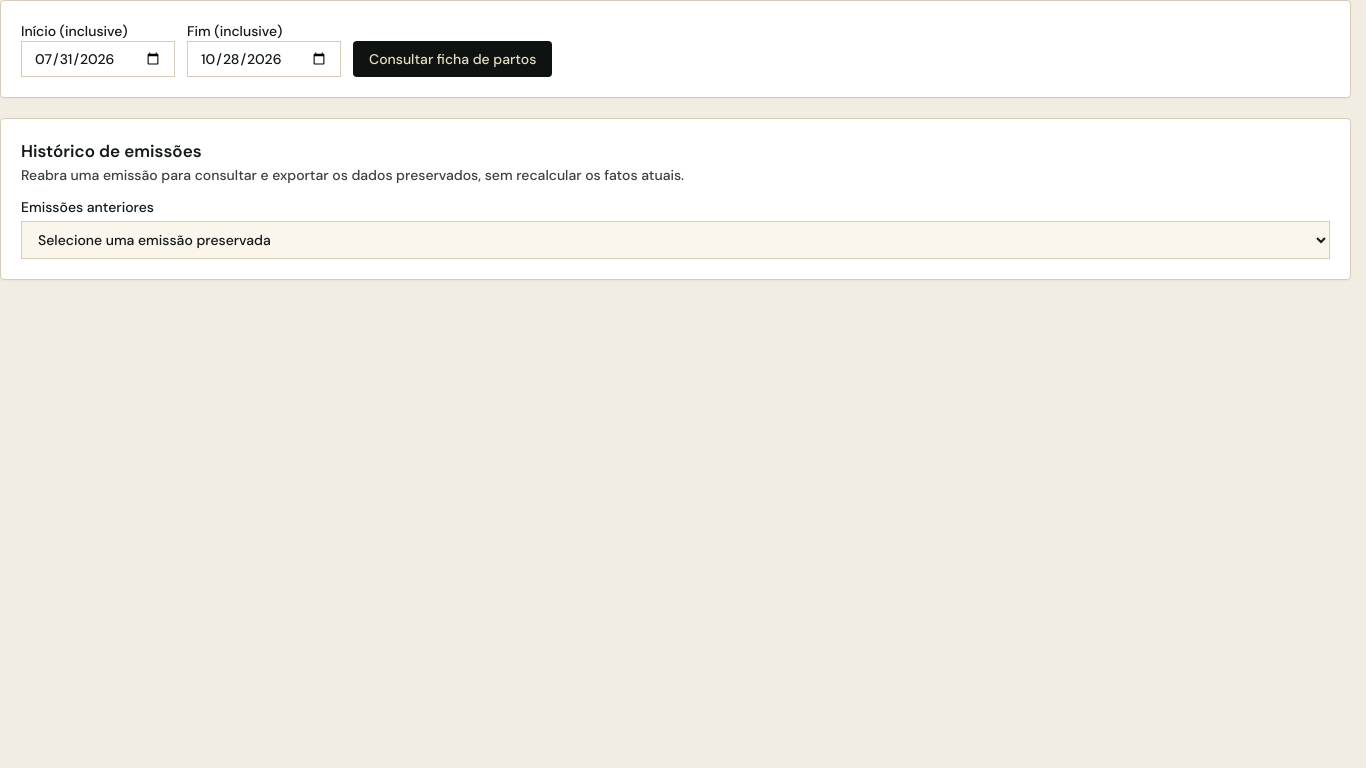
Test: diferencia datas em edição do período preservado sem recalcular a emissão
The width and height of the screenshot is (1366, 768).
expect the button "Consultar ficha de partos" is shown: met, box [353, 41, 552, 77]
Step 1. Select "14/10/2026, 12:00:00" in the dropdown labelled "Emissões anteriores" → (676,240), box [21, 220, 1330, 258]
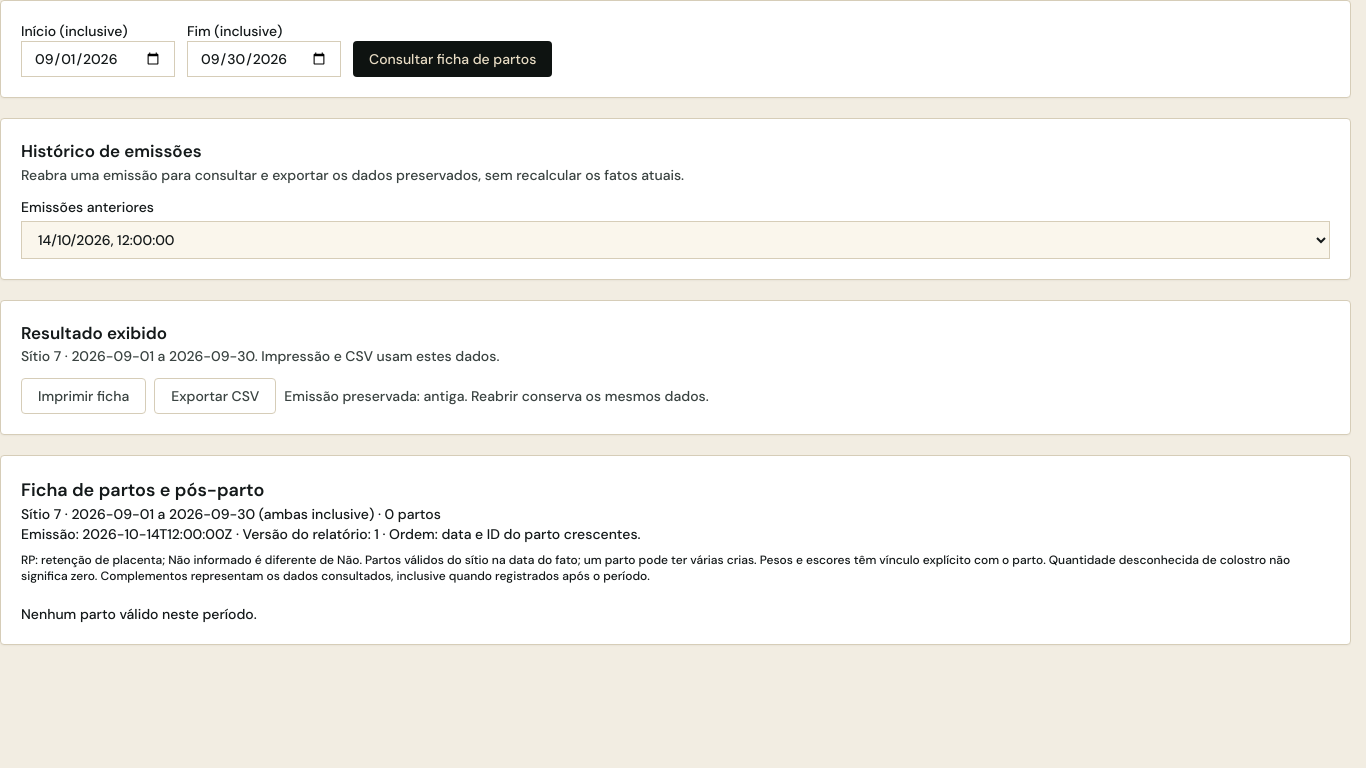
expect the text "As datas editadas ainda" is not shown: met
expect the text "Emissão preservada: antiga" is shown: met, box [284, 387, 709, 405]
Step 2. Type "2026-08-01" into the date field labelled "Início (inclusive)" → (98,59), box [21, 41, 175, 77]
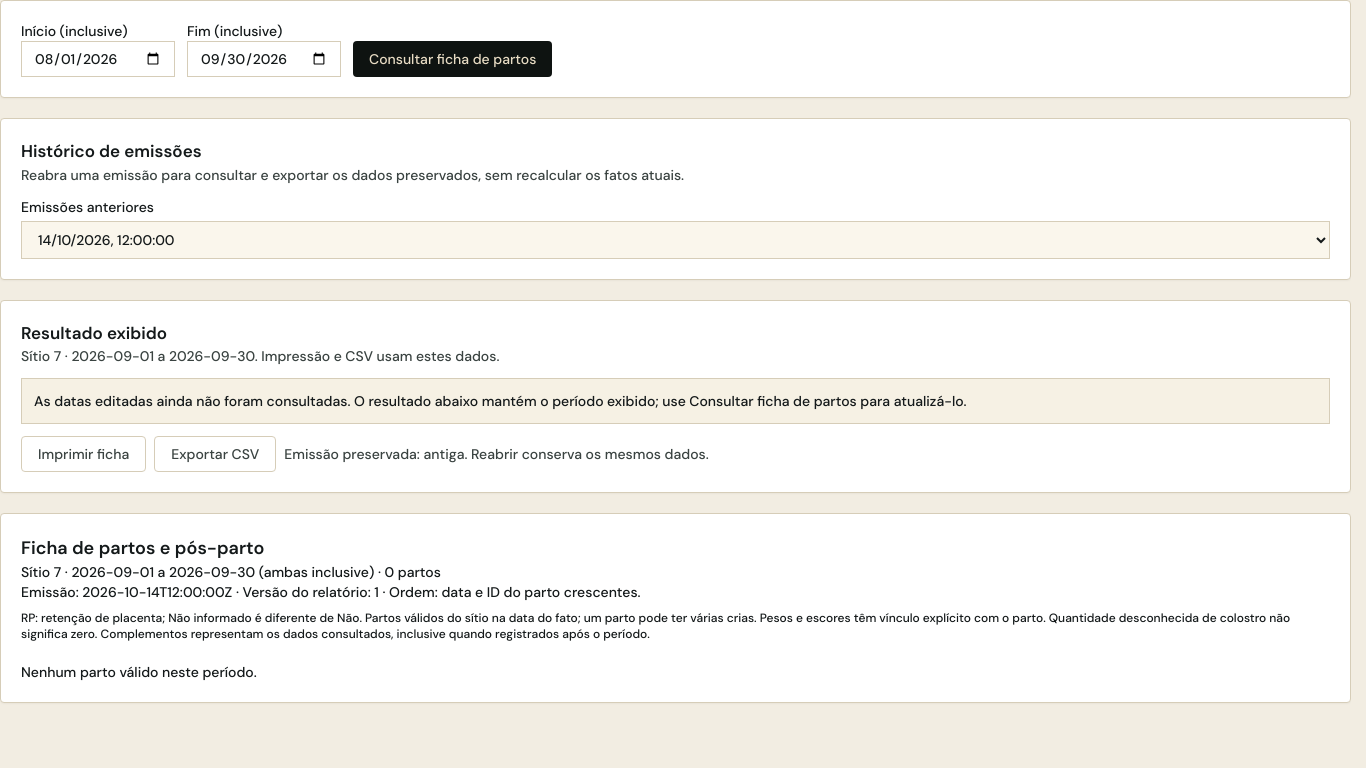
expect the text "Sítio 7 · 2026-09-01 a 2026-09-30. Impressão e CSV" is shown: met, box [21, 347, 499, 365]
expect the text "Emissão preservada: antiga" is shown: met, box [284, 445, 709, 463]
expect the text "As datas editadas ainda não foram consultadas" is shown: met, box [34, 392, 967, 410]
